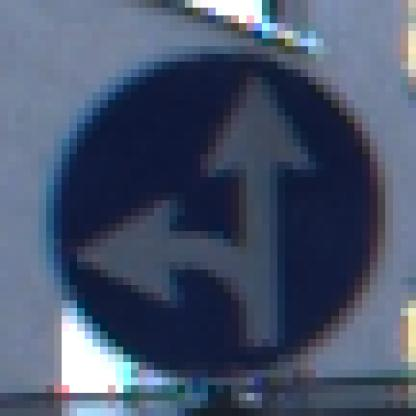Straight or Left: (39, 40, 371, 379)
